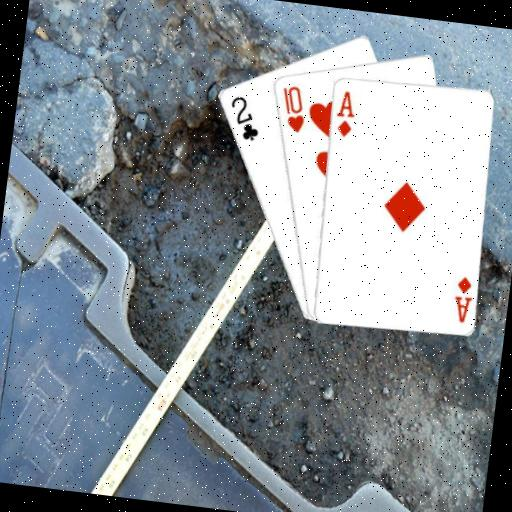10H: (275, 81, 310, 135)
2C: (224, 92, 265, 143)
AD: (330, 87, 359, 139), (448, 273, 475, 325)
